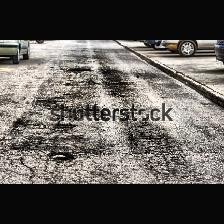pothole: (48, 152, 76, 162), (68, 68, 92, 72)
